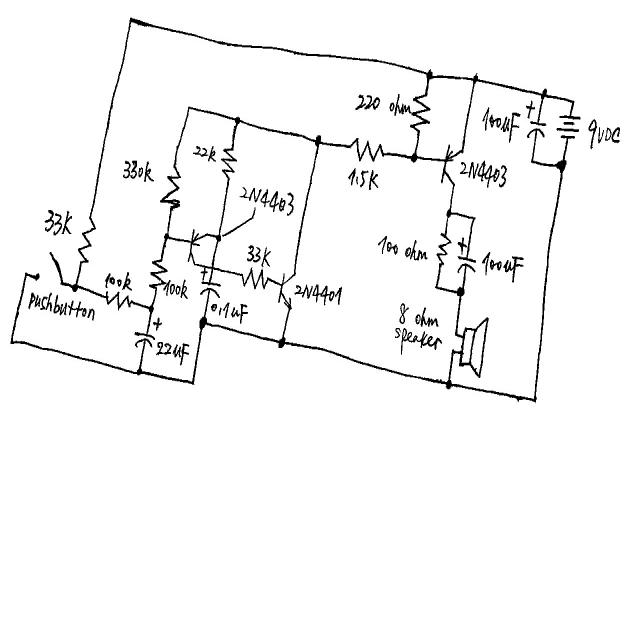capacitor: (134, 316, 163, 349), (455, 238, 478, 277), (524, 101, 547, 139), (198, 268, 222, 301)
crossover: (210, 264, 216, 272)
junction: (556, 159, 567, 172), (198, 316, 208, 329), (424, 69, 434, 81), (70, 281, 80, 293), (456, 285, 465, 298), (233, 114, 242, 126), (444, 207, 453, 219), (162, 230, 171, 242), (314, 134, 322, 147), (278, 337, 286, 349), (410, 151, 418, 163), (444, 379, 452, 390), (214, 232, 222, 243), (470, 74, 478, 84), (135, 367, 143, 377), (147, 303, 155, 313), (540, 89, 548, 99), (22, 270, 30, 280), (128, 15, 135, 25), (452, 329, 459, 339), (470, 214, 477, 223), (186, 103, 192, 113), (189, 378, 196, 386), (569, 98, 576, 106), (8, 338, 15, 346), (434, 283, 440, 292), (529, 157, 535, 165), (532, 395, 538, 403), (450, 348, 456, 355)
resistor: (159, 165, 182, 212), (76, 217, 97, 267), (348, 136, 385, 163), (409, 92, 432, 135), (240, 265, 271, 292), (148, 257, 168, 291), (103, 289, 133, 310), (220, 146, 237, 181), (436, 232, 452, 267)
source: (556, 113, 582, 141)
switch: (34, 250, 66, 287)
text: (28, 287, 96, 323), (240, 185, 296, 216), (482, 106, 521, 144), (460, 159, 508, 189), (392, 325, 442, 352), (482, 252, 525, 283), (378, 236, 428, 261), (296, 282, 343, 307), (586, 119, 621, 150), (210, 299, 249, 326), (42, 207, 74, 238), (398, 305, 438, 329), (155, 339, 190, 364), (122, 158, 154, 183), (347, 167, 380, 191), (246, 243, 271, 267), (163, 277, 188, 300), (105, 272, 133, 291), (192, 143, 217, 164), (388, 95, 411, 117), (356, 92, 381, 112)
transistor: (440, 143, 463, 188), (276, 270, 296, 311), (186, 228, 206, 267)
